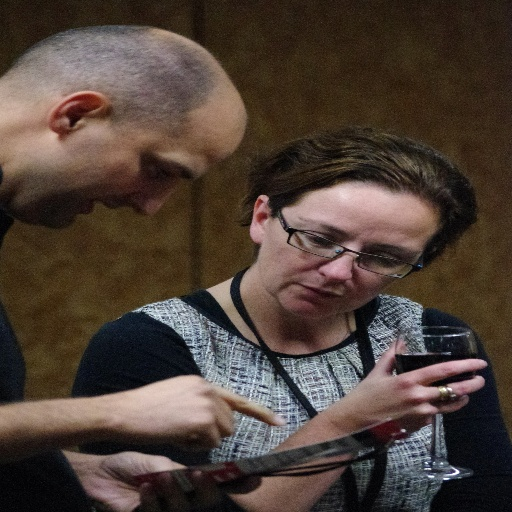hand: (104, 372, 288, 452), (325, 358, 491, 442), (85, 453, 262, 511)
